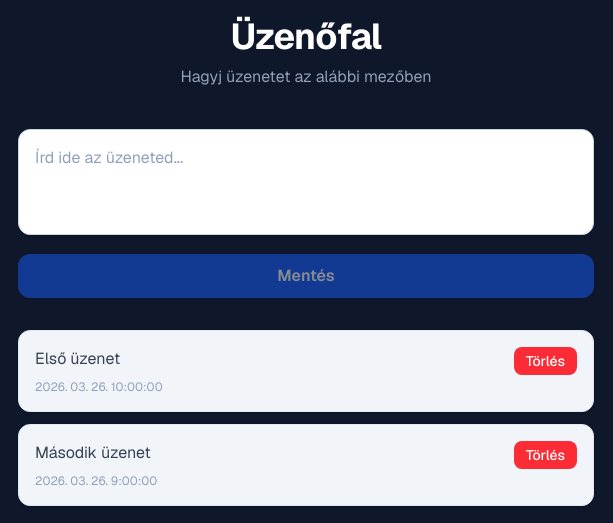
Üzenőfal › enables save button when input has text
In the text box with placeholder "Írd ide az üzeneted...": x=306, y=182 [18, 129, 594, 235], type "Teszt üzenet"
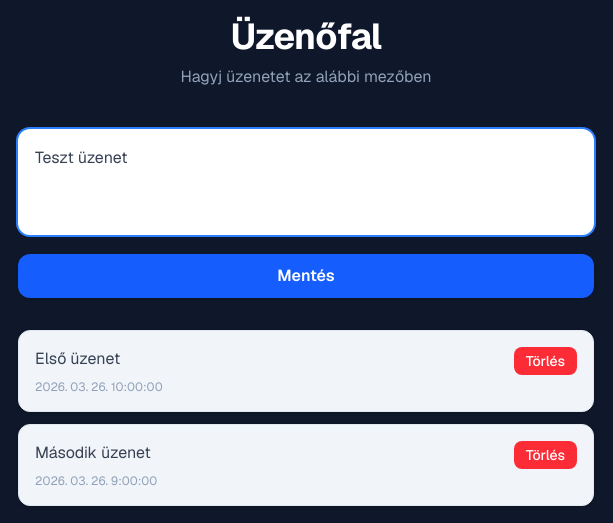
Check: the button "Mentés" is enabled, box [18, 254, 594, 298]
